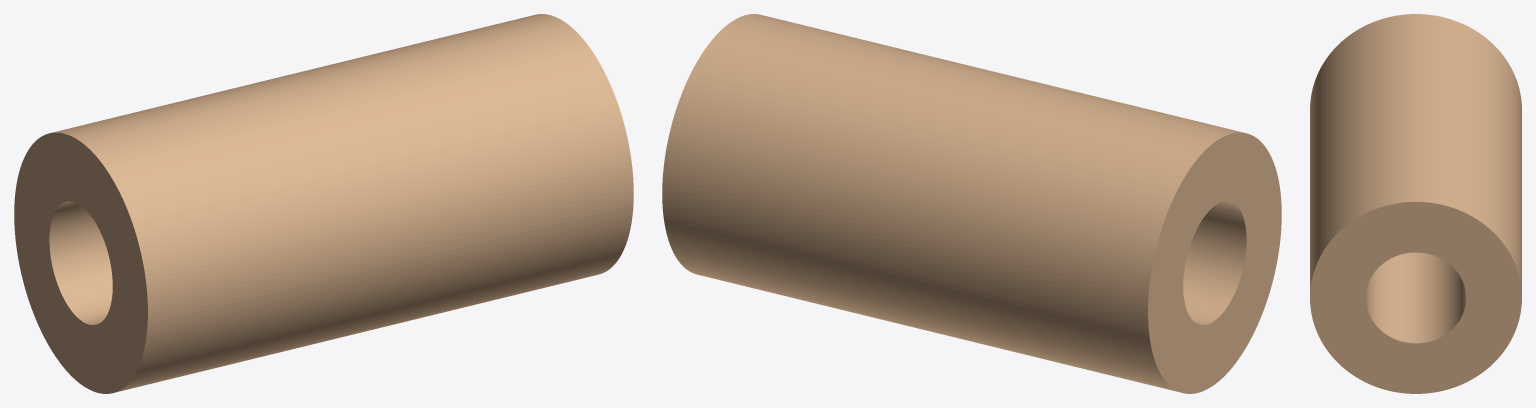
The model's file is iac-coil.glb.
3 renders of one model, left to right at view 1: azimuth 30°, elevation 25°; view 2: azimuth 150°, elevation 25°; view 3: azimuth 270°, elevation 25°, orthographic. The views are drawn at different scales.
Visible parts, largest first — view 1: world; view 2: world; view 3: world.
Boxes of the visible parts, box(x1,y1,x2,y2) form: world: box(14, 14, 633, 393); world: box(662, 14, 1281, 393); world: box(1310, 14, 1521, 393).
Size of the model in its own units: 0.039 by 0.0186 by 0.0186.
